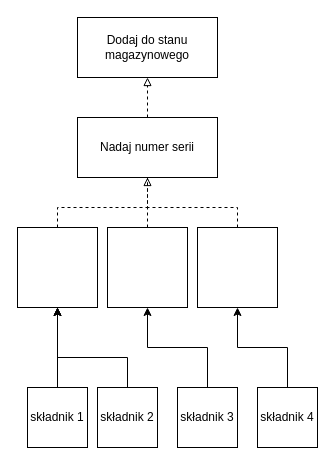
Some shapes in this 335 by 465 pixel diagram are drawn without their labels. The box of each missing label's shape, as (x1, y1, x2, y2) in pixels:
Daj mi jeść: (16, 226, 98, 308)
Dej, dej dej: (196, 226, 278, 308)
Proszę o więcej: (106, 226, 188, 308)
